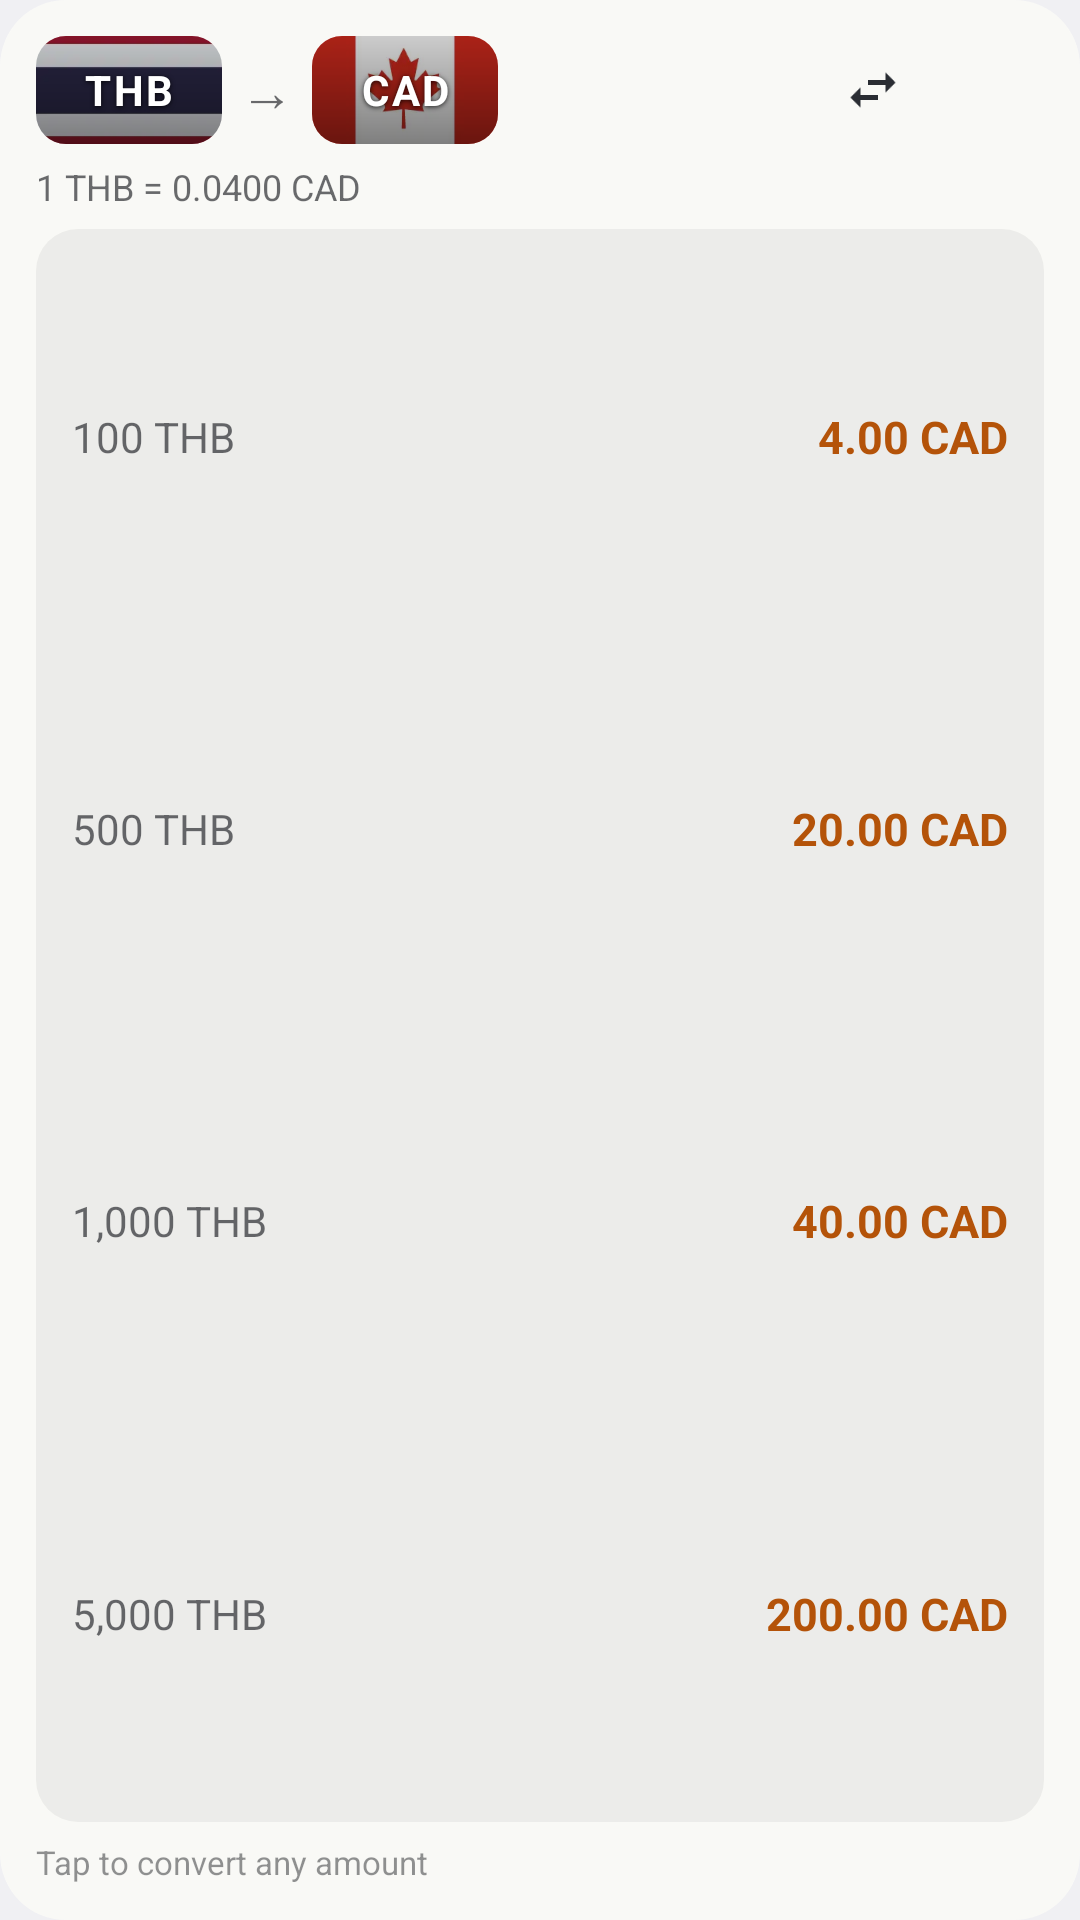

Locate icon controls on the screen. Image size 1080w x 1920h, boxes as (x1, y1, x2, y2).
Swap currencies: (850, 72, 896, 108)
